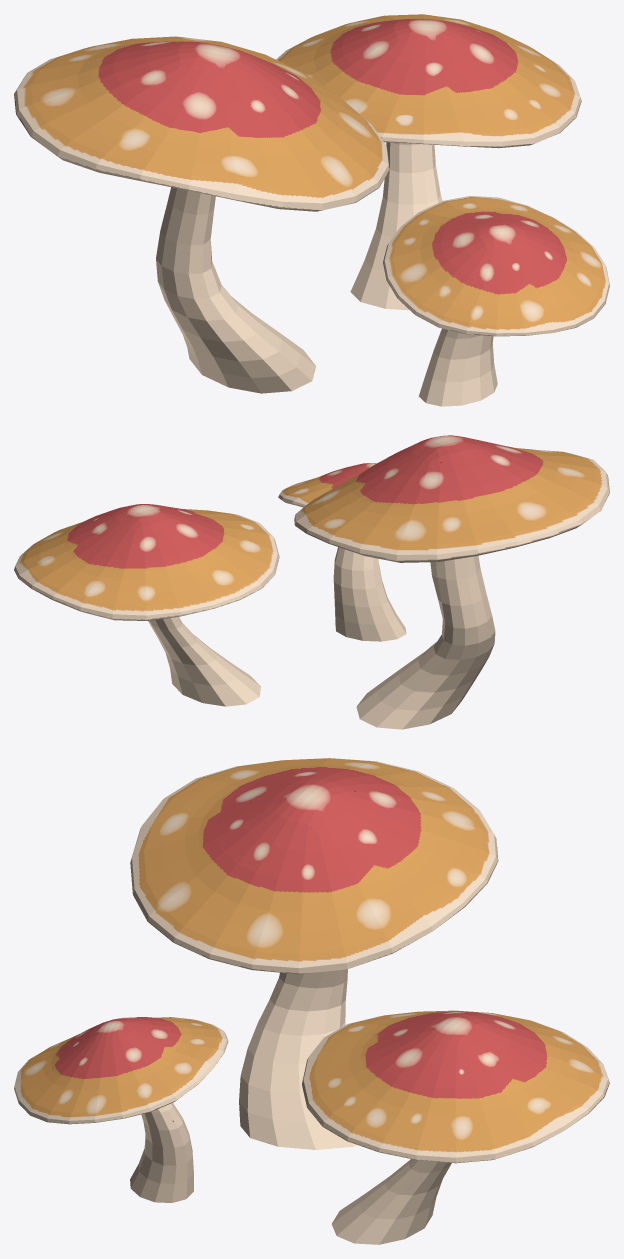
The model's file is mudshroom.fbx.
The picture shows the model from 3 angles, top to bottom: view 1: azimuth 30°, elevation 25°; view 2: azimuth 150°, elevation 25°; view 3: azimuth 270°, elevation 25°; orthographic projection. The views are drawn at different scales.
Visible parts, largest first — view 1: mudshroom.001; view 2: mudshroom.001; view 3: mudshroom.001.
Part boxes in pixels (left/top/right/bottom): mudshroom.001: left=14, top=14, right=609, bottom=406; mudshroom.001: left=14, top=435, right=609, bottom=729; mudshroom.001: left=14, top=758, right=609, bottom=1244.
Size of the model in its own units: 132 by 69.39 by 119.
1 material, 1 textured.
